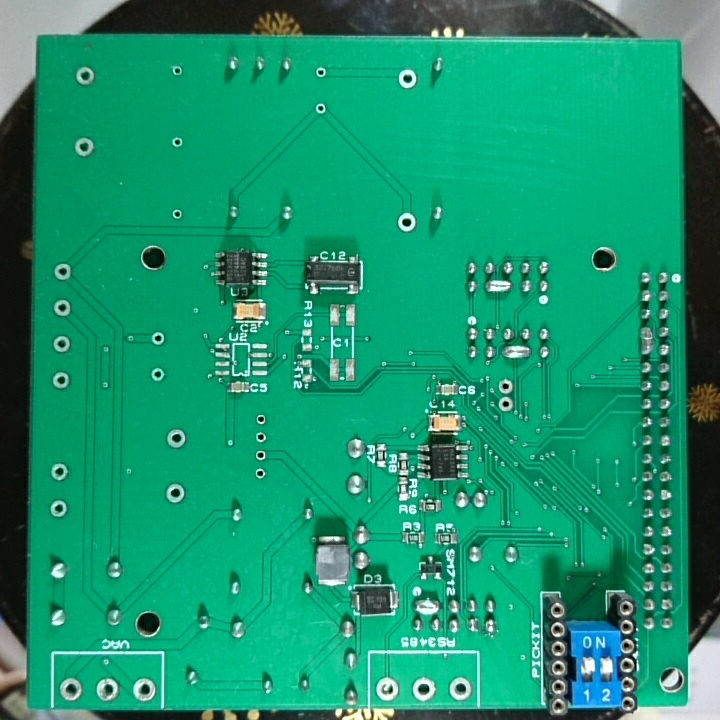F: (374, 675, 402, 703), (410, 674, 437, 703), (447, 674, 474, 703), (129, 676, 157, 703), (57, 676, 84, 703), (94, 676, 120, 703), (164, 426, 190, 452), (394, 210, 419, 237), (162, 480, 187, 506), (395, 66, 419, 91), (74, 63, 97, 88), (72, 135, 97, 158), (48, 497, 70, 522), (50, 369, 72, 393), (51, 261, 74, 283), (48, 460, 70, 483), (52, 295, 73, 318), (51, 333, 72, 355), (251, 463, 271, 484), (251, 446, 271, 465), (496, 376, 516, 395), (496, 394, 515, 414), (252, 427, 271, 446), (169, 132, 186, 153), (148, 366, 167, 384), (149, 330, 167, 349), (169, 205, 185, 223), (312, 100, 328, 117), (169, 63, 185, 79), (254, 411, 269, 428), (314, 64, 328, 80)
P: (482, 275, 514, 296), (637, 324, 656, 359), (411, 595, 443, 615), (500, 343, 530, 362)
